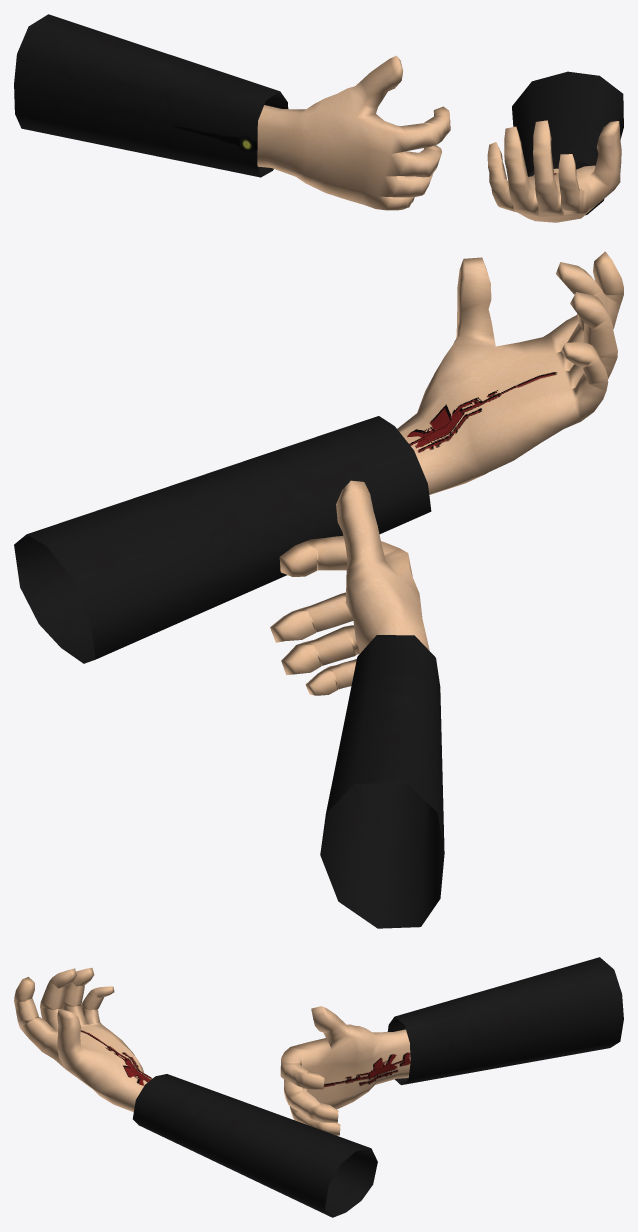
The model's file is hand.fbx.
3 renders of one model, top to bottom at view 1: azimuth 30°, elevation 25°; view 2: azimuth 150°, elevation 25°; view 3: azimuth 270°, elevation 25°, orthographic. The views are drawn at different scales.
Parts seen in each view (by area): view 1: hand_basemesh4; view 2: hand_basemesh4; view 3: hand_basemesh4.
Part boxes in pixels (x1,y1,x2,y2): hand_basemesh4: (14, 14, 623, 222); hand_basemesh4: (14, 251, 623, 928); hand_basemesh4: (14, 957, 623, 1217).
Bounding box in the file's own units: 37.61 × 15.45 × 51.57.
1 material, 1 textured.
